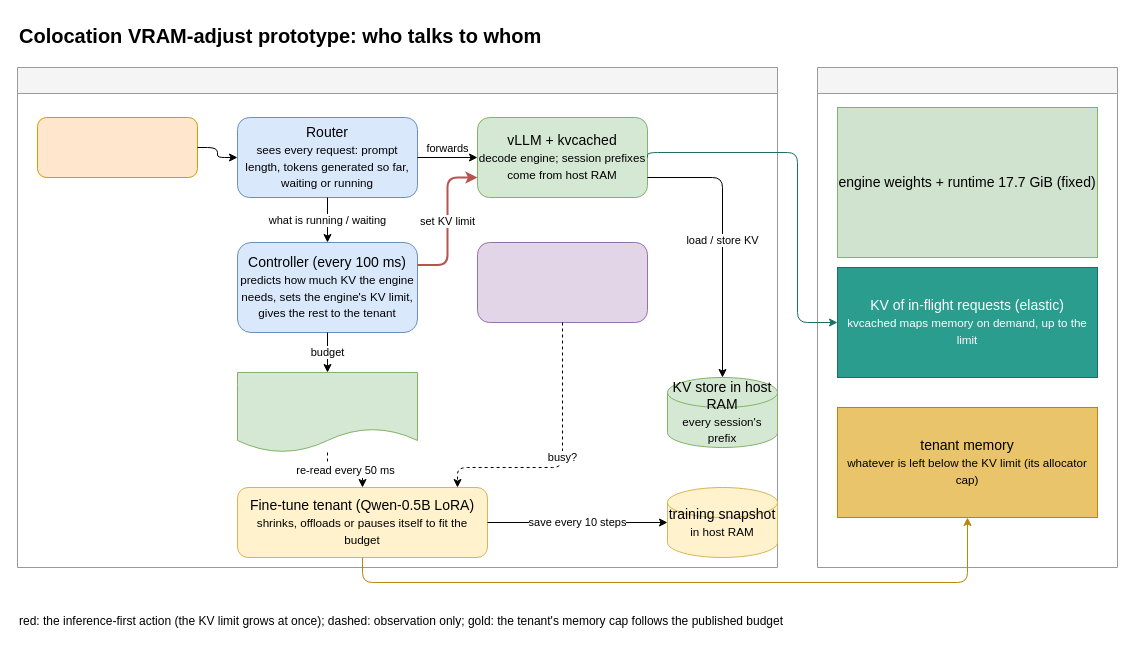
This 1135x654 diagram has some shape labels left out. The shapes that lost their labels are listed below. From the top down, each one's box as (x1, y1, x2, y2) in pixels, then its label:
(36, 116, 198, 178): Load generator 32 chat sessions, arrival rate changes over time
(476, 242, 648, 322): observation patch reports when the engine is busy; records every host↔GPU copy
(16, 66, 778, 568): Host (one process each)
(816, 66, 1118, 568): GPU (31.35 GiB, shared)
(236, 372, 418, 452): shared budget file how much VRAM (and compute) the tenant may use right now
